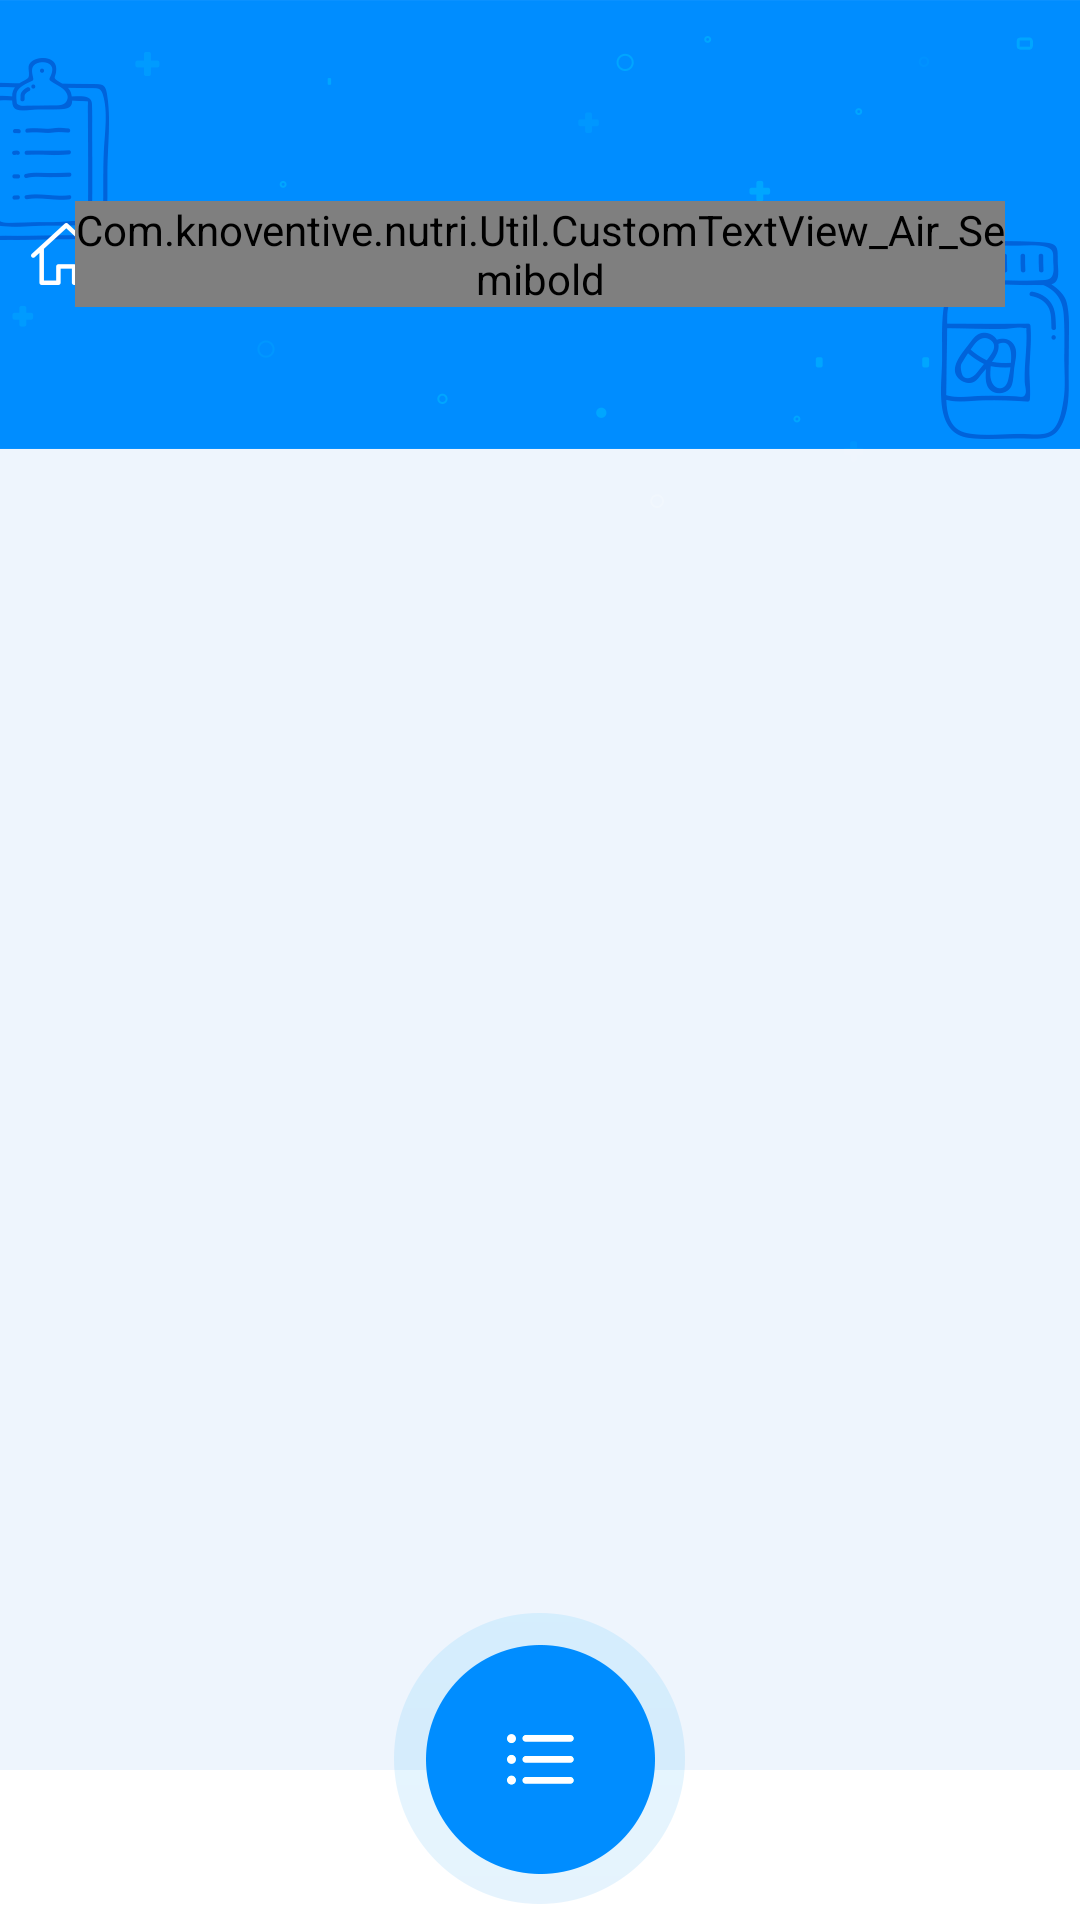

Screen size 1080 x 1920. Icon name, then its center in pixels as [x,y]:
menu: [539,1743]
